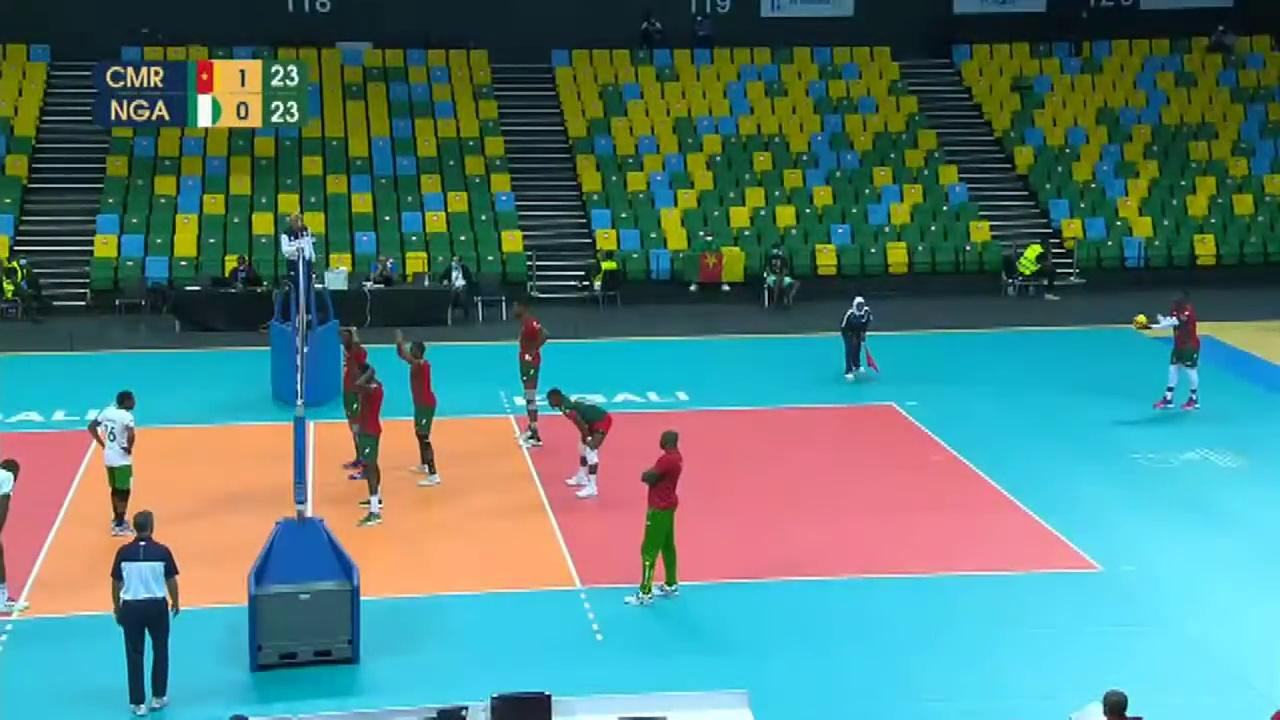player: (346, 367, 399, 529), (544, 388, 615, 496), (1136, 295, 1202, 411), (90, 391, 140, 533), (338, 327, 384, 478), (0, 449, 37, 619), (401, 335, 442, 485), (511, 303, 545, 441)
refree: (111, 511, 183, 712), (277, 211, 321, 315), (839, 294, 877, 383)
